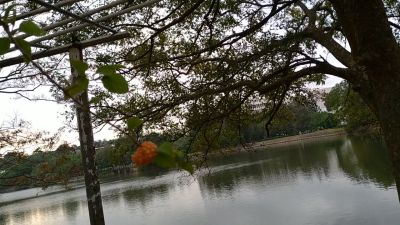eggs: (130, 140, 159, 166)
